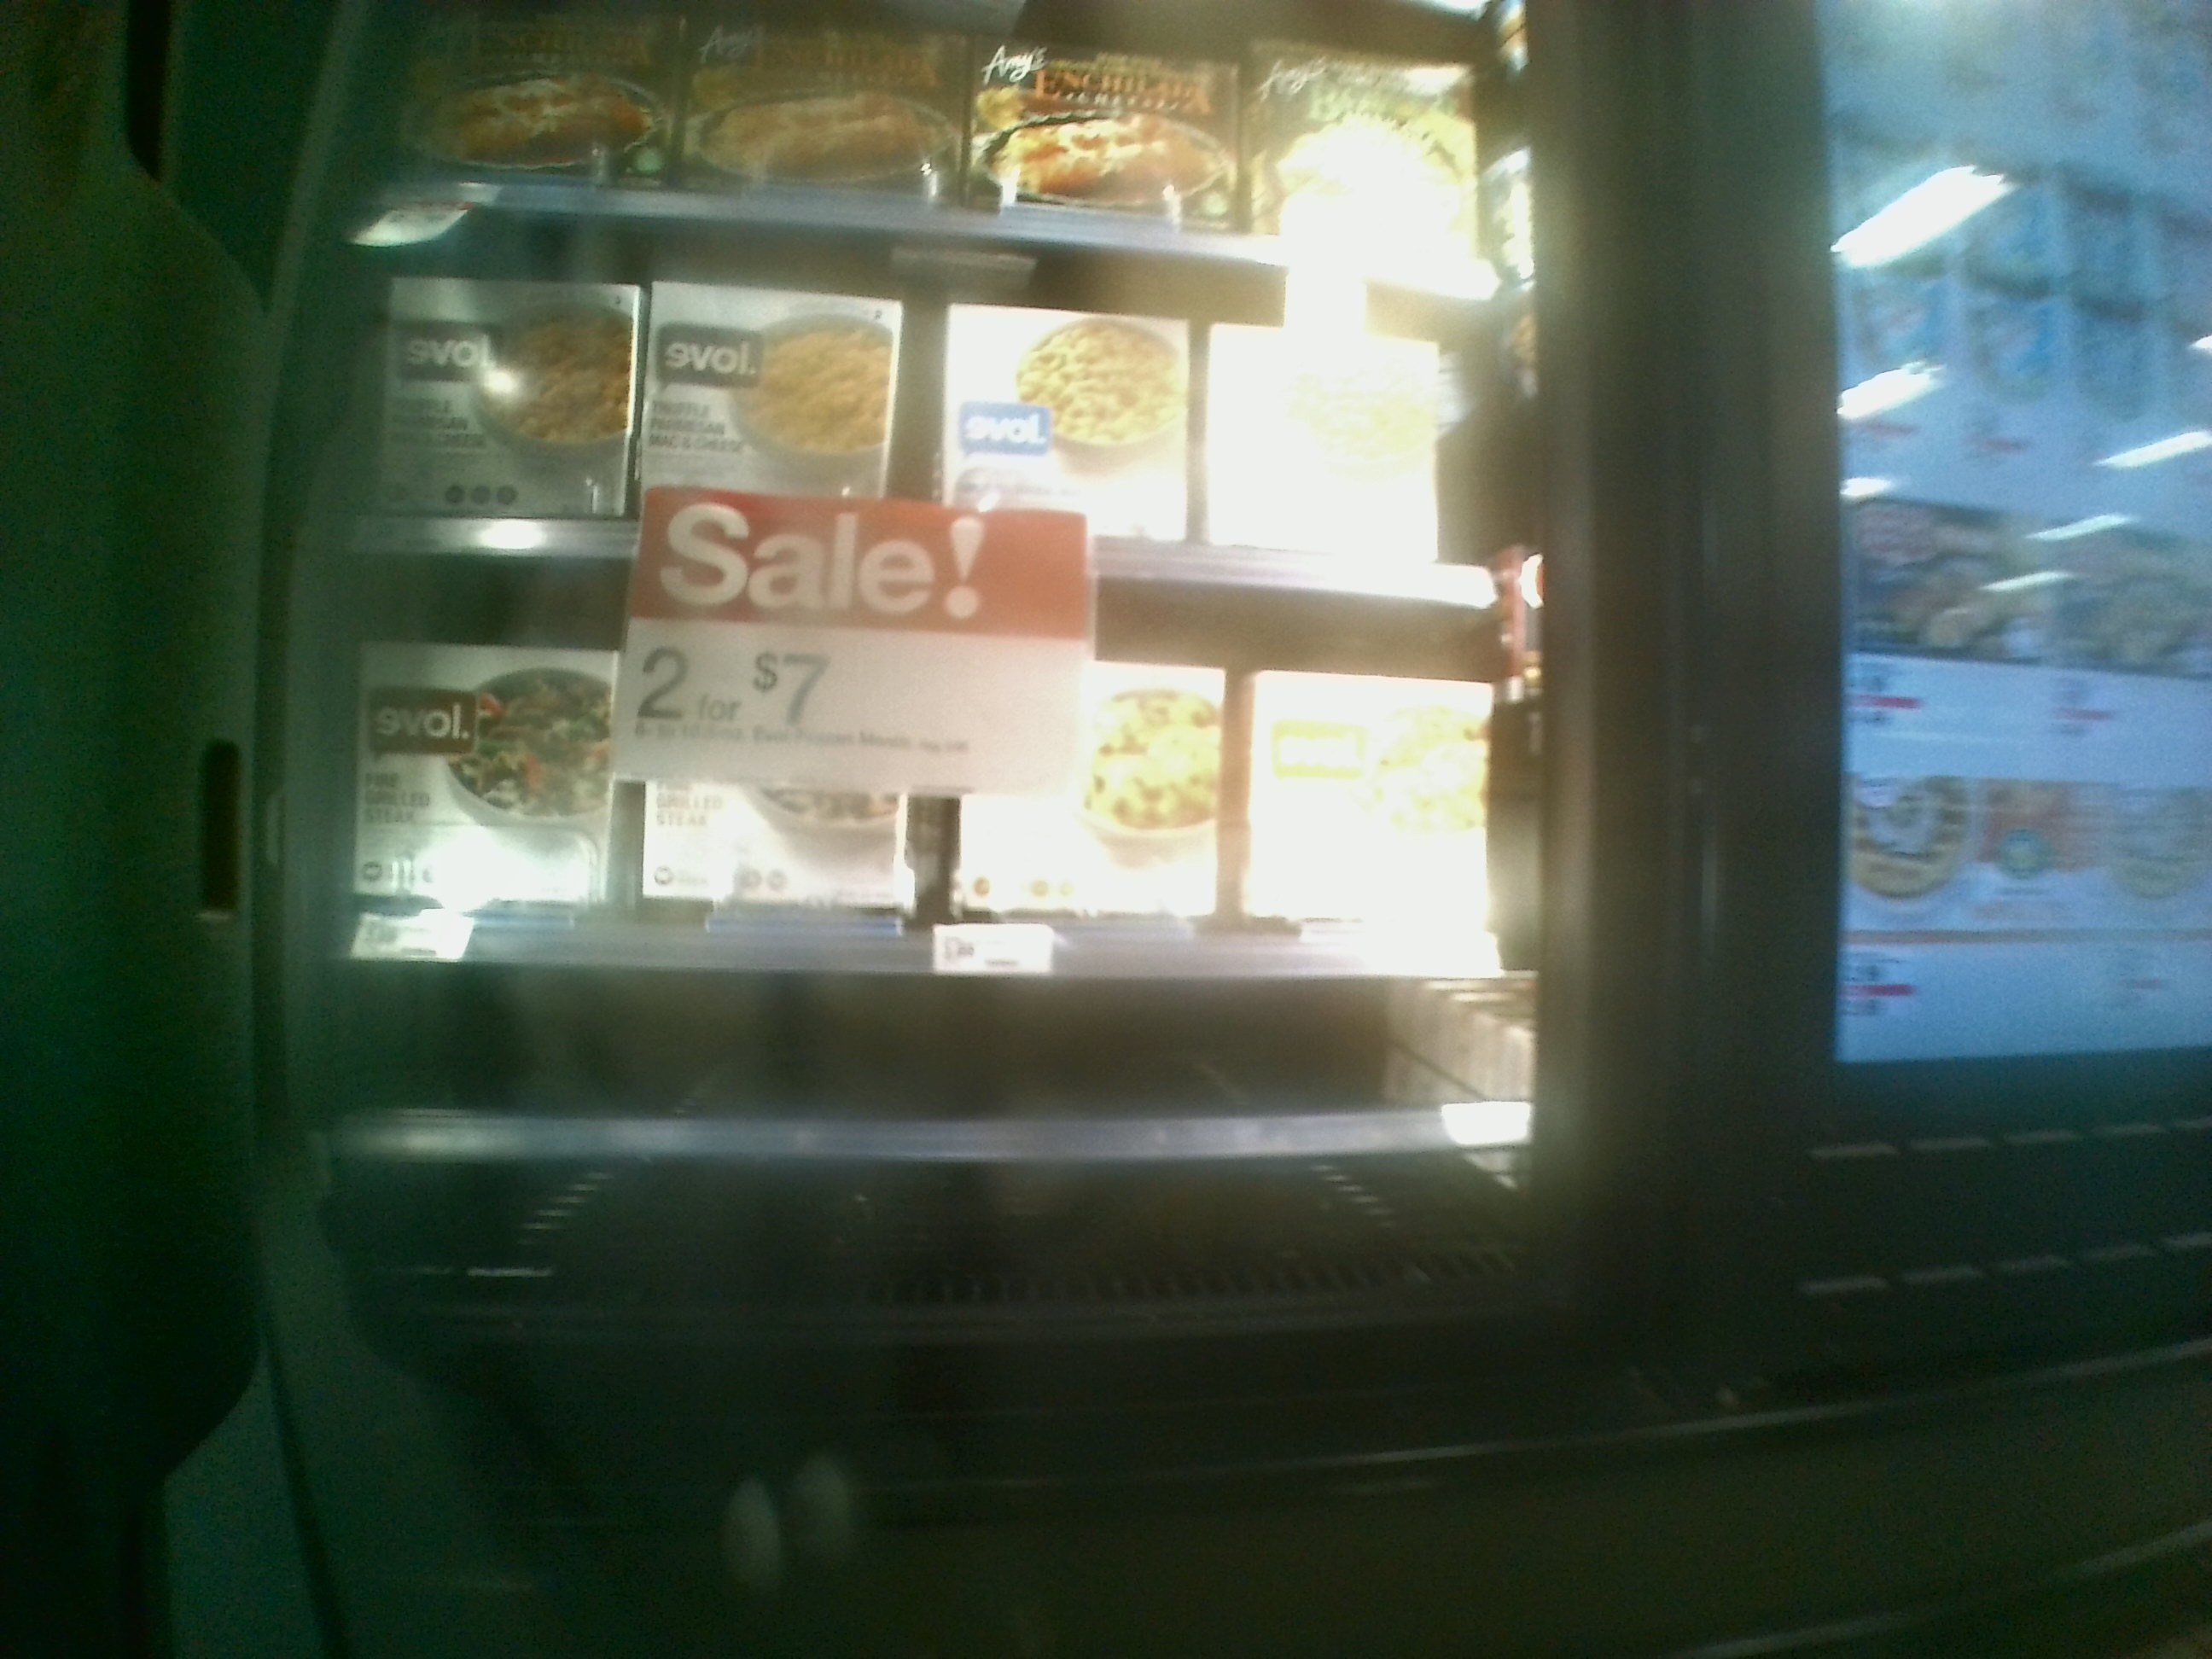shelf: (354, 580, 1522, 978), (374, 228, 1527, 601), (352, 976, 1531, 1288)
